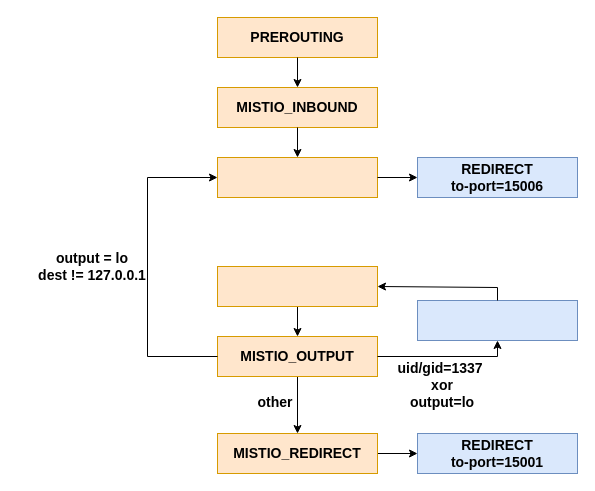
Some shapes in this 595 by 491 pixel diagram are drawn without their labels. Here are the shapes that lost their labels. From the top down, the box of each, then its label:
(216, 156, 378, 198): MISTIO_IN_REDIRECT
(216, 266, 378, 306): OUTPUT
(416, 300, 578, 340): RETURN
